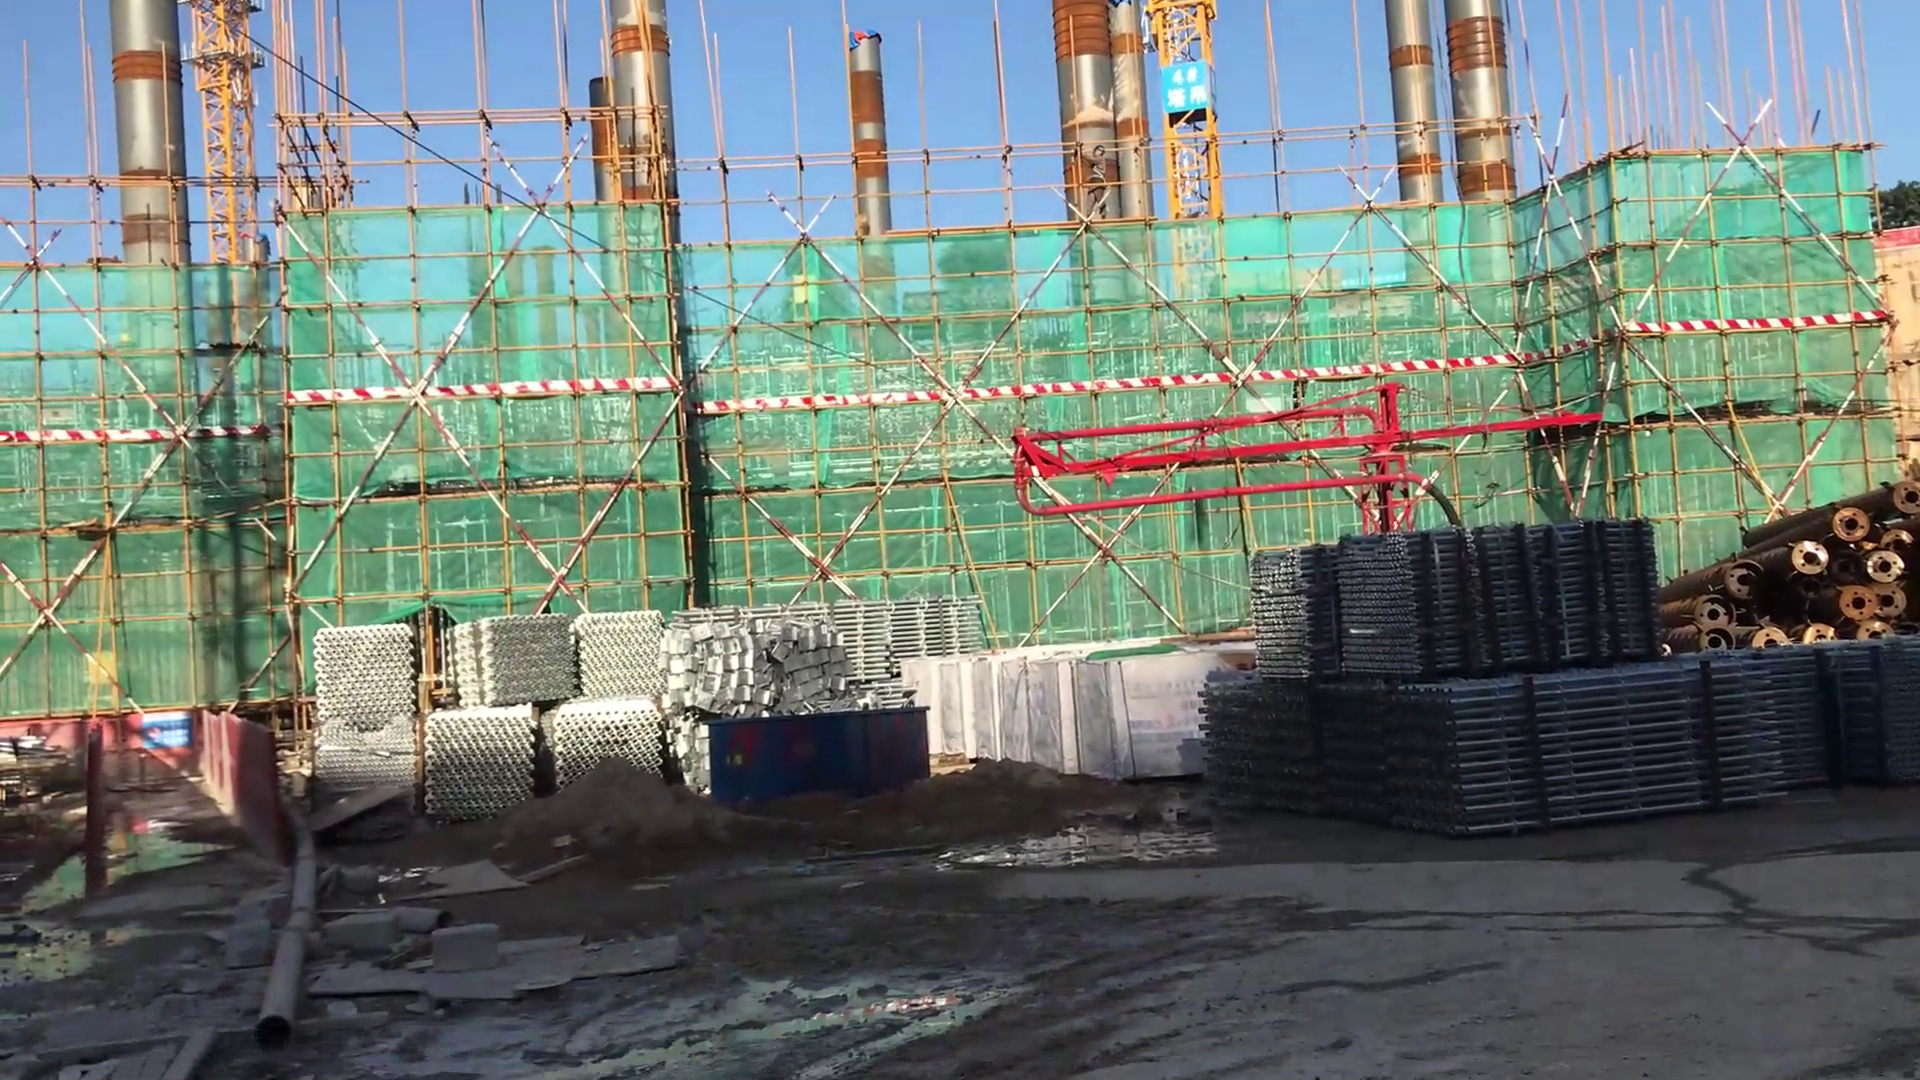fence: (49, 702, 303, 876)
hopper: (691, 694, 949, 820)
scaffold: (1199, 644, 1894, 823), (1221, 518, 1639, 680), (407, 688, 657, 822), (440, 608, 673, 700), (310, 626, 438, 748), (836, 595, 964, 665)
